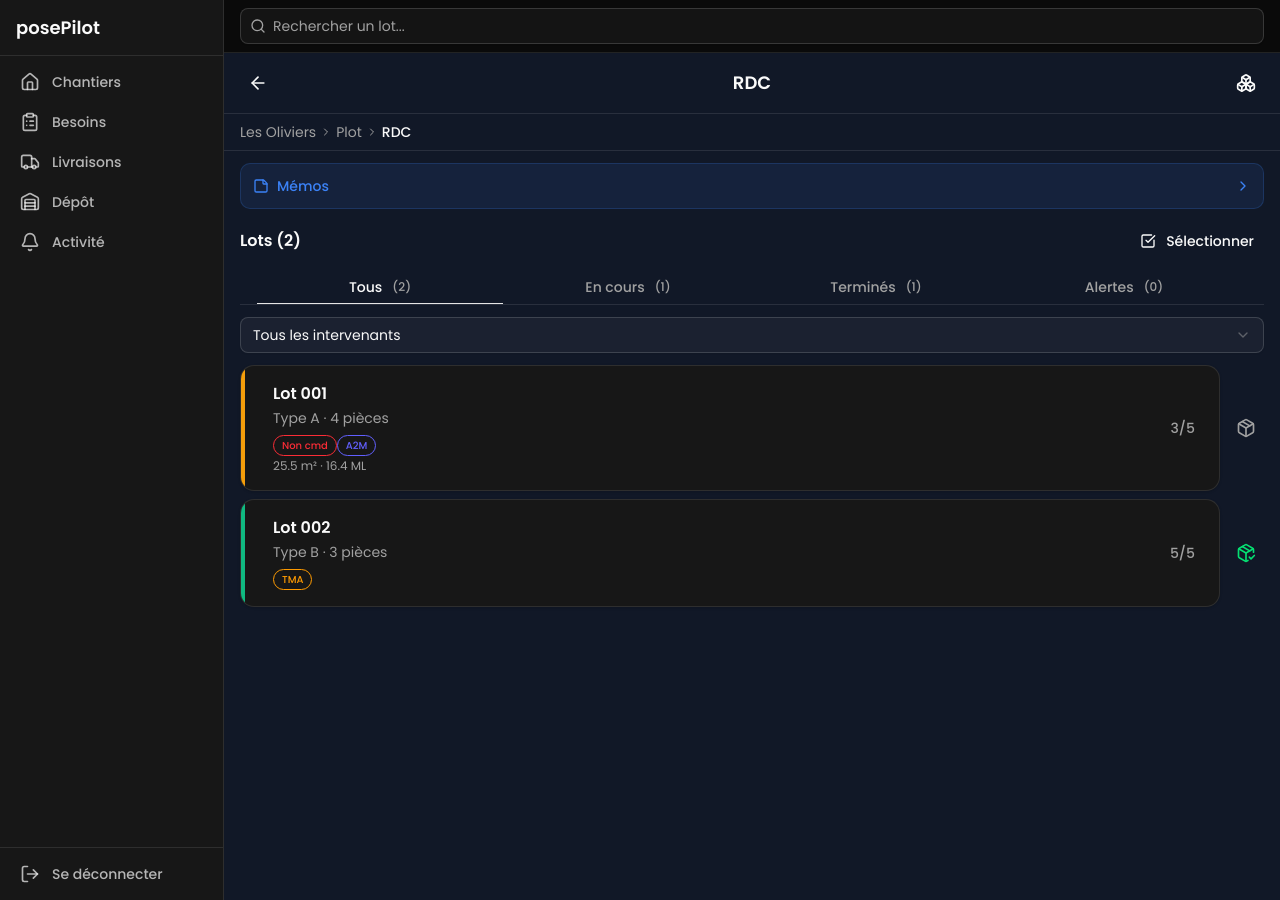
Test case: EtageIndexPage — Intervenant filter (AC #6) › filters lots by intervenant when filter is active
The width and height of the screenshot is (1280, 900).
expect the text "Lot 001" is shown: met, box [273,382,327,406]
expect the text "Lot 002" is shown: met, box [273,516,330,540]
// Open the intervenant filter select
What coordinates should you click on to do the following:
click the dropdown named "Filtrer par intervenant"
I would click on:
 (327, 335)
Its box is [240,317,1264,353].
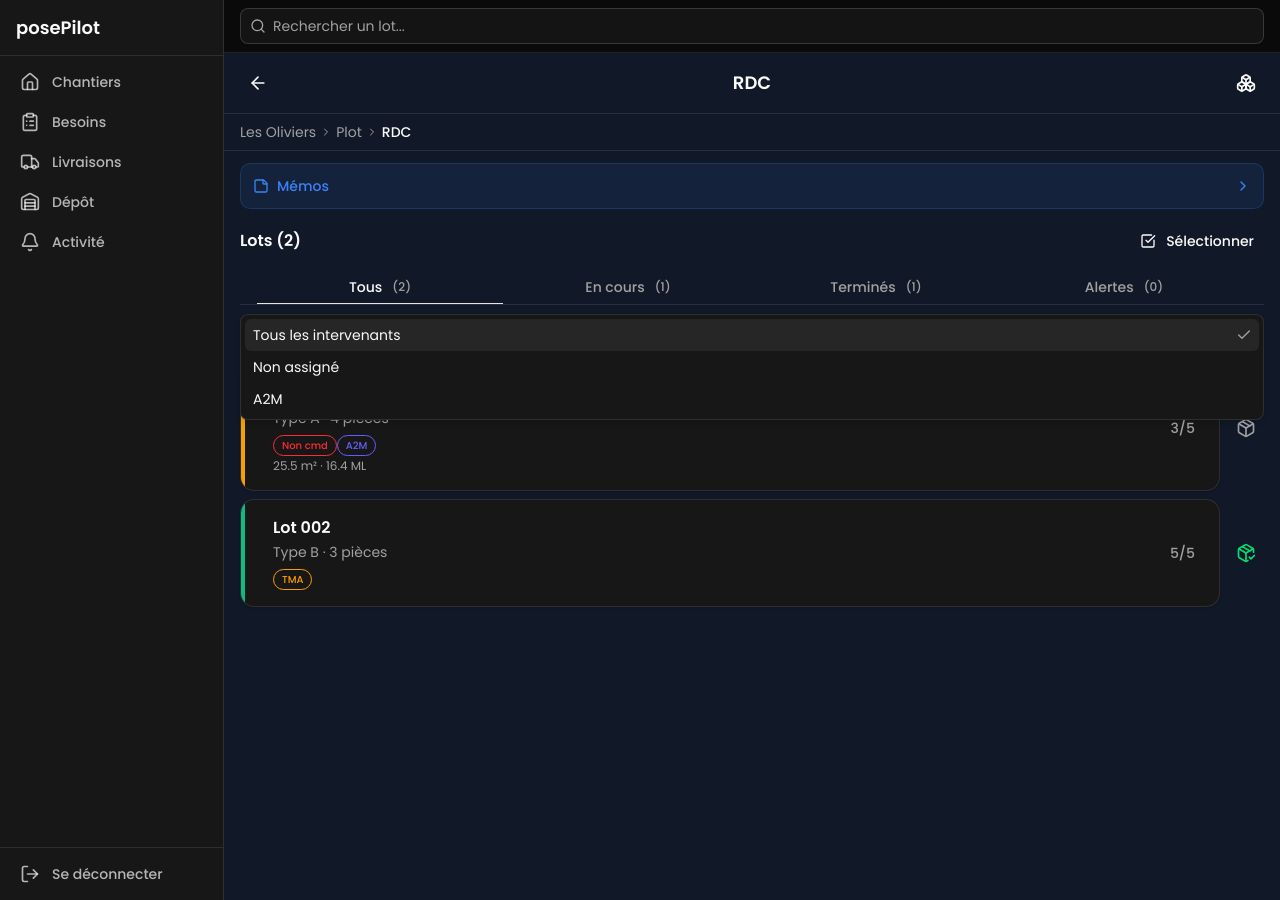
What coordinates should you click on to do the following:
click the option "A2M"
I would click on:
 (268, 399)
Its box is [253,389,282,409].
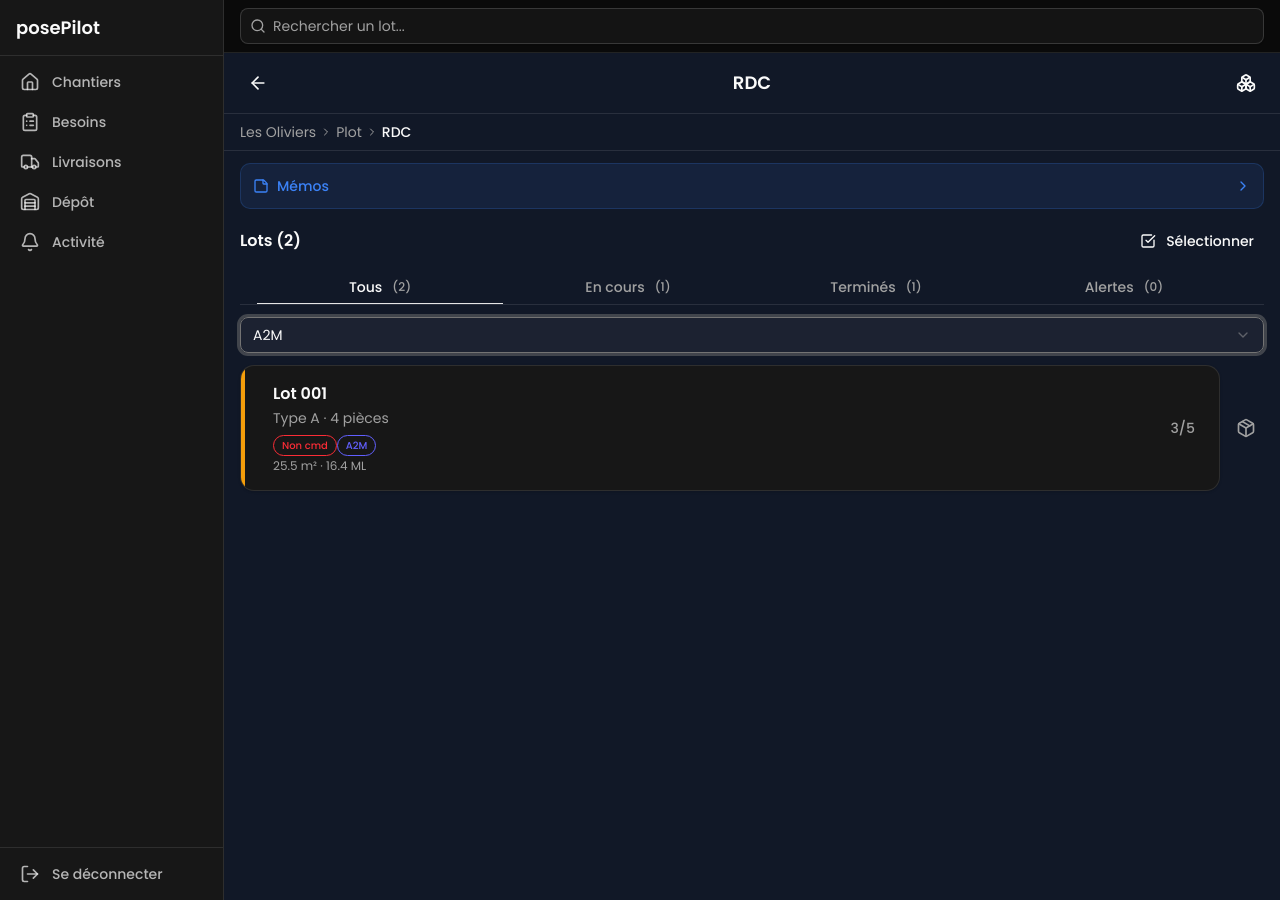
expect the text "Lot 001" is shown: met, box [273,382,327,406]
expect the text "Lot 002" is gone: met
